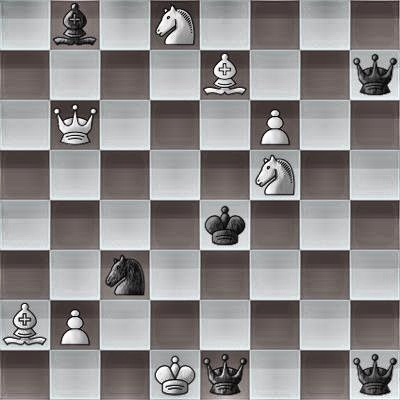black-bishop: (50, 0, 100, 50)
black-king: (200, 200, 250, 250)
black-knight: (100, 250, 150, 300)
black-queen: (350, 50, 400, 100), (200, 350, 250, 400), (350, 350, 400, 400)
white-bishop: (200, 50, 250, 100), (0, 300, 50, 350)
white-king: (150, 350, 200, 400)
white-knight: (150, 0, 200, 50), (250, 150, 300, 200)
white-pawn: (250, 100, 300, 150), (50, 300, 100, 350)
white-queen: (50, 100, 100, 150)
